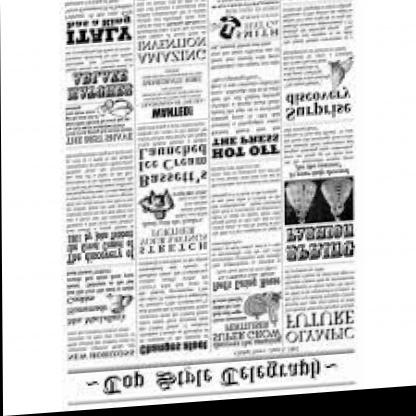Paper: (35, 0, 394, 405)
